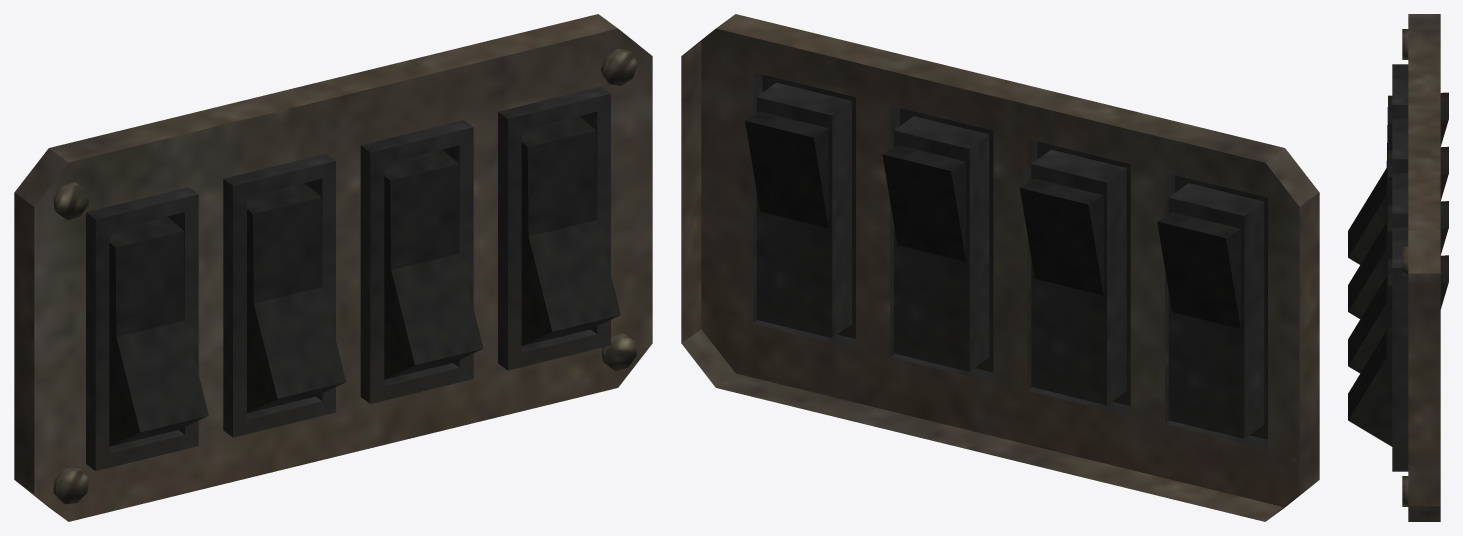
Rendered from buttons_etx_black_2.obj.
The picture shows the model from 3 angles, left to right: view 1: azimuth 30°, elevation 25°; view 2: azimuth 150°, elevation 25°; view 3: azimuth 270°, elevation 25°; orthographic projection. The views are drawn at different scales.
Visible parts, largest first — view 1: buttons_etx_black_2, buttons_etx_black_2_child_4, buttons_etx_black_2_child_1, buttons_etx_black_2_child_3, buttons_etx_black_2_child_2; view 2: buttons_etx_black_2, buttons_etx_black_2_child_2, buttons_etx_black_2_child_4, buttons_etx_black_2_child_1, buttons_etx_black_2_child_3; view 3: buttons_etx_black_2, buttons_etx_black_2_child_4, buttons_etx_black_2_child_1, buttons_etx_black_2_child_3, buttons_etx_black_2_child_2.
Part boxes in pixels (<box>): buttons_etx_black_2: <box>14,14,652,521</box>; buttons_etx_black_2_child_4: <box>521,116,620,345</box>; buttons_etx_black_2_child_1: <box>109,216,208,446</box>; buttons_etx_black_2_child_3: <box>384,149,483,379</box>; buttons_etx_black_2_child_2: <box>247,183,345,412</box>; buttons_etx_black_2: <box>681,14,1319,521</box>; buttons_etx_black_2_child_2: <box>1020,178,1103,295</box>; buttons_etx_black_2_child_4: <box>745,111,828,228</box>; buttons_etx_black_2_child_1: <box>1157,212,1240,328</box>; buttons_etx_black_2_child_3: <box>882,145,965,261</box>; buttons_etx_black_2: <box>1392,14,1440,521</box>; buttons_etx_black_2_child_4: <box>1348,255,1448,446</box>; buttons_etx_black_2_child_1: <box>1348,92,1448,264</box>; buttons_etx_black_2_child_3: <box>1348,201,1448,373</box>; buttons_etx_black_2_child_2: <box>1348,146,1448,318</box>.
Bounding box in the file's own units: 0.324 × 0.18 × 0.0565.
